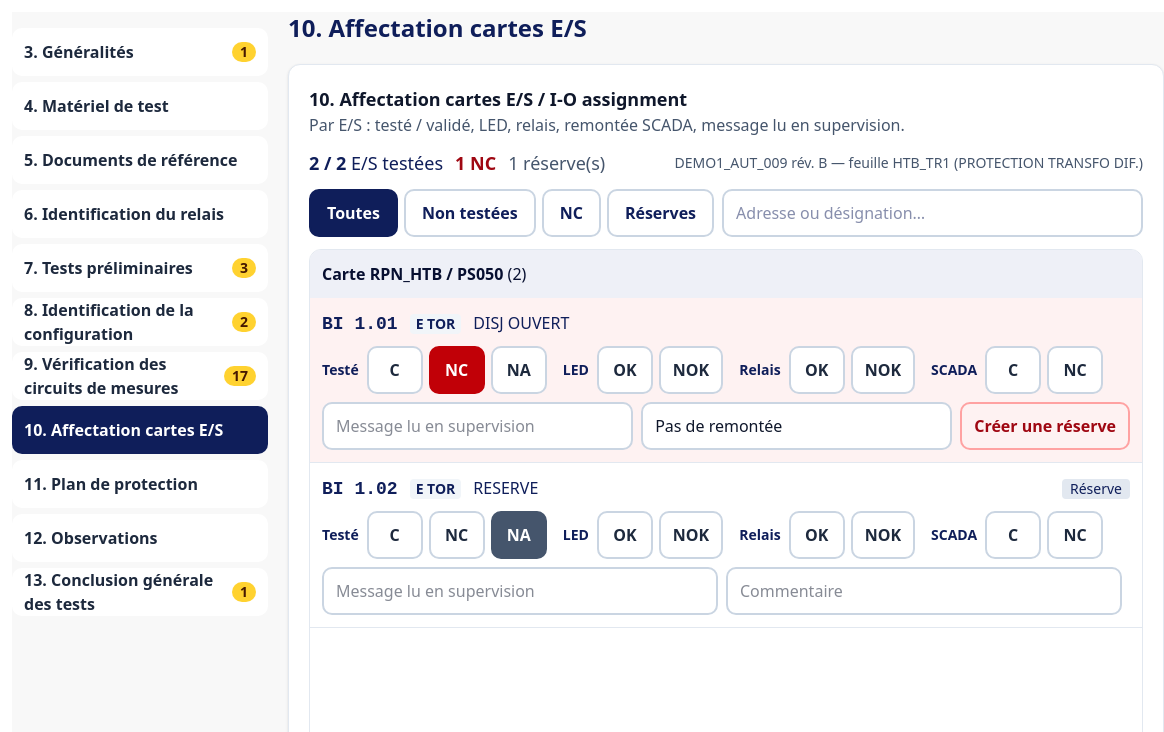
Test: liste des E/S › une E/S NC peut être transformée en réserve
Click the button "Créer une réserve": point(1045, 426) [960,402,1130,450]
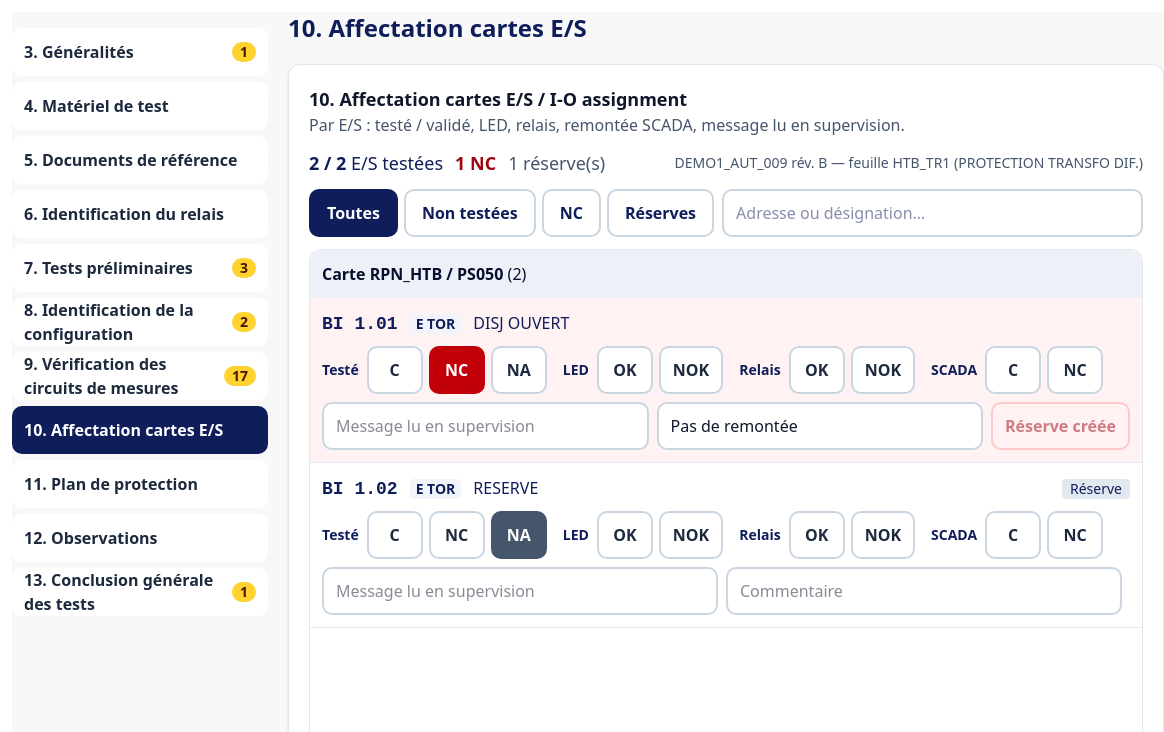
Expected: the button "Réserve créée" is shown, [991,402,1130,450]
